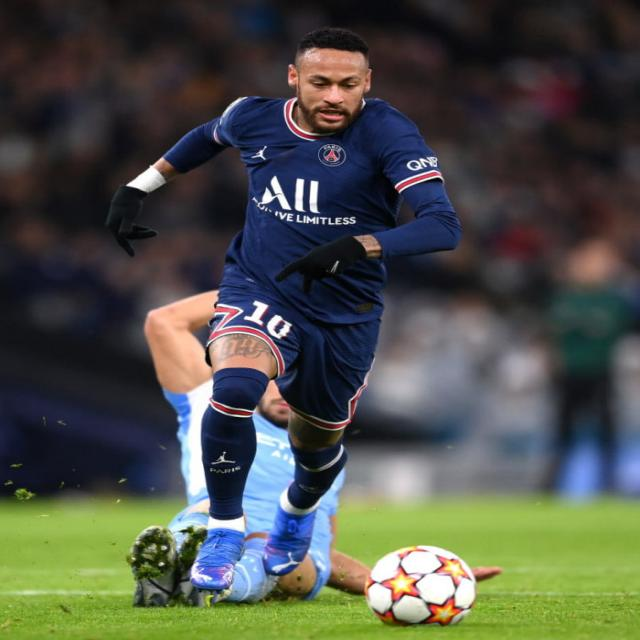neymar: (291, 28, 380, 133)
